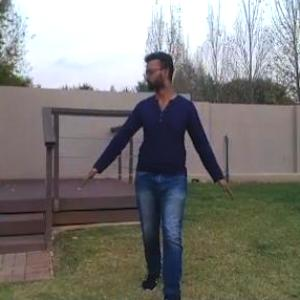land: (76, 56, 246, 299)
